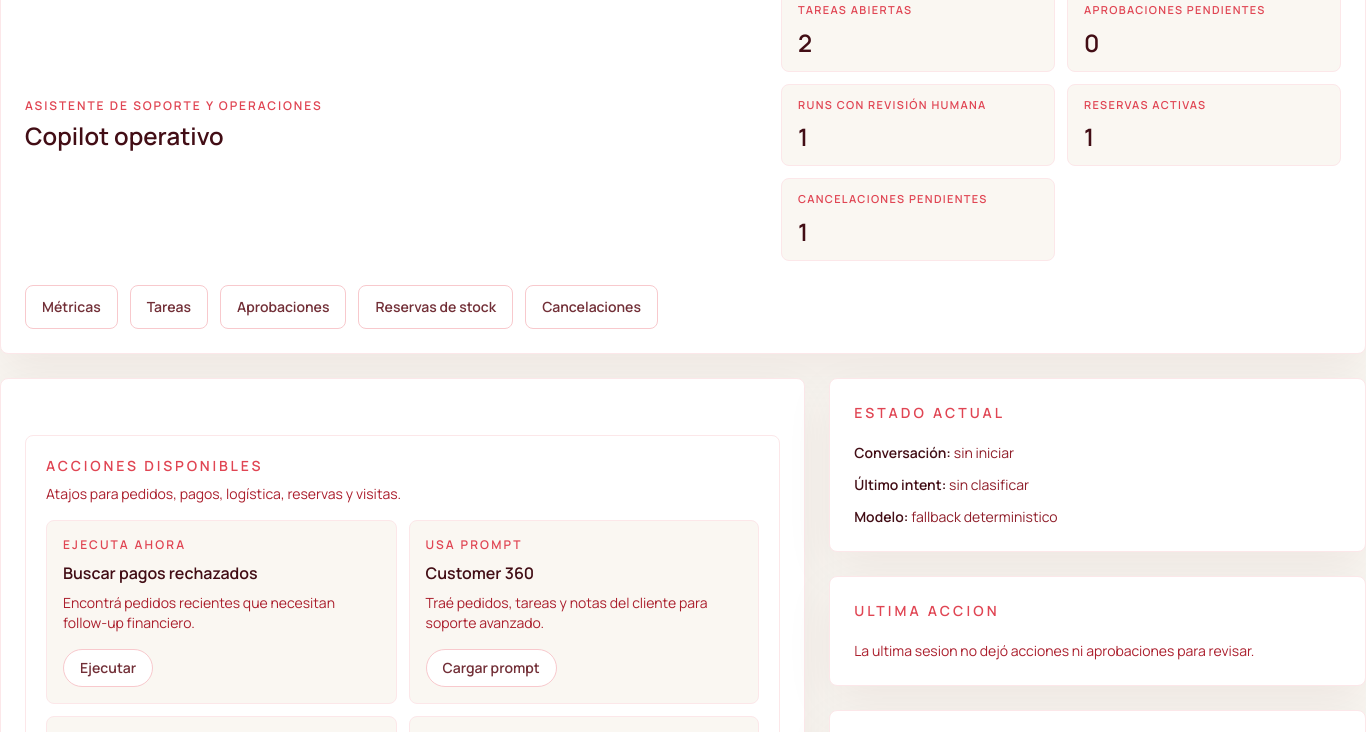
Test: BackofficeCopilotPage › loads a quick action prompt into the textarea
Click the button "Cargar prompt".
click(491, 668)  # box [426,648,557,686]
(page scrolled)
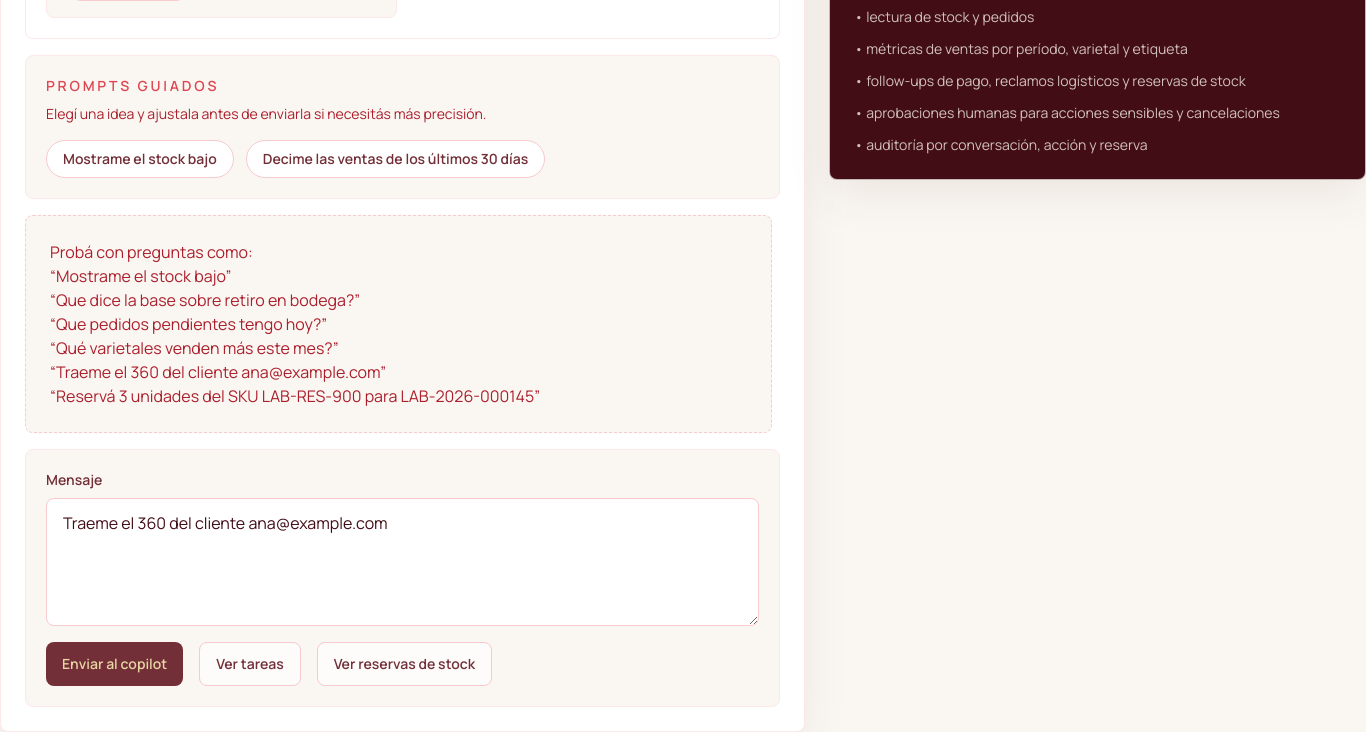
Check: the text box labelled "Mensaje" holds "Traeme el 360 del cliente ana@example.com", box [46,498,759,626]
